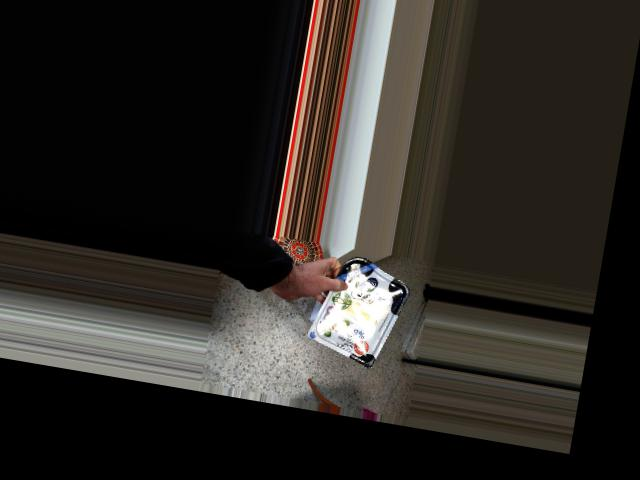cheese: (323, 259, 403, 358)
